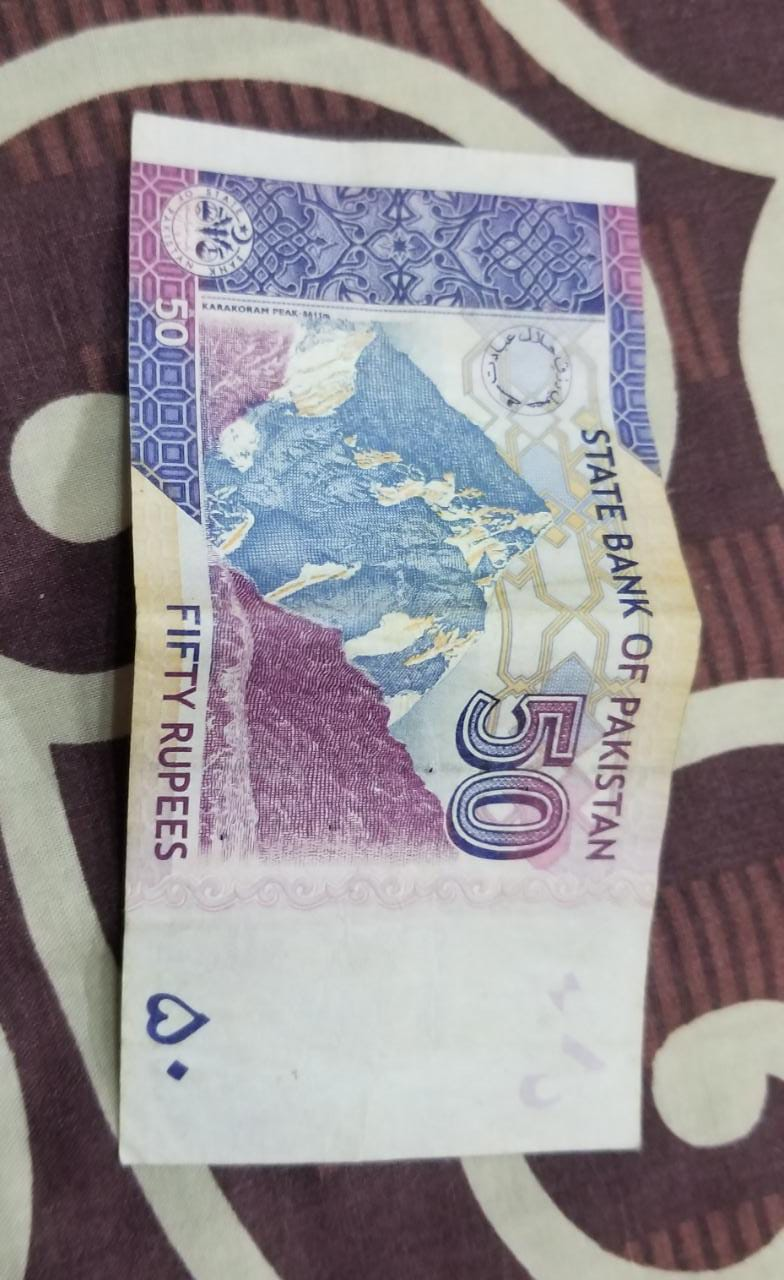50 rupee: (52, 90, 705, 1215)
